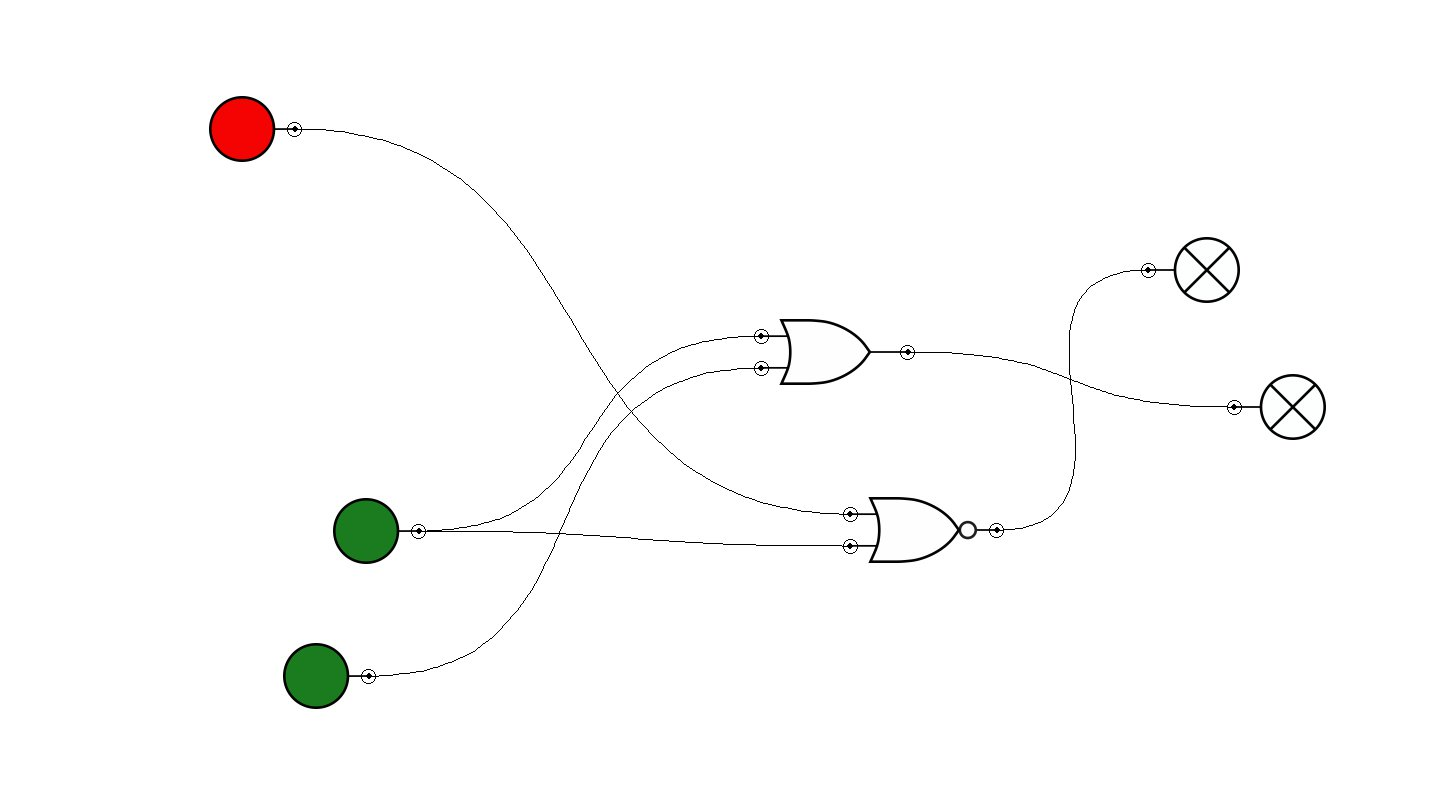bulb: (1141, 237, 1240, 303), (1227, 374, 1326, 440)
nor: (843, 497, 1004, 563)
or: (754, 319, 915, 385)
switch_False: (209, 96, 302, 162)
switch_True: (333, 498, 426, 564), (283, 643, 376, 709)
